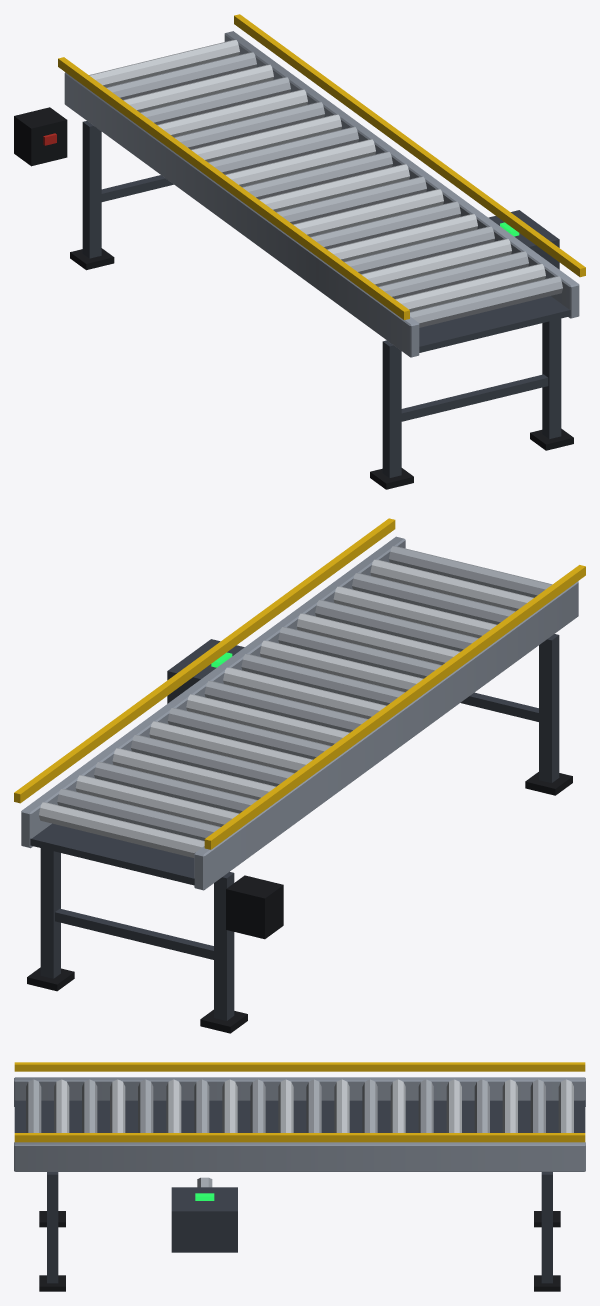
File: loader_conveyor_segment_3m.glb
3 views of the same model, one above another, from view 1: azimuth 30°, elevation 25°; view 2: azimuth 150°, elevation 25°; view 3: azimuth 270°, elevation 25° (orthographic). The views are drawn at different scales.
Visible parts, largest first — view 1: loader_conveyor_segment_3m; view 2: loader_conveyor_segment_3m; view 3: loader_conveyor_segment_3m.
Part boxes in pixels (bbox=[...]): loader_conveyor_segment_3m: bbox=[14, 14, 585, 489]; loader_conveyor_segment_3m: bbox=[14, 518, 585, 1033]; loader_conveyor_segment_3m: bbox=[14, 1062, 585, 1291].
Bounding box in the file's own units: 1.49 × 0.903 × 3.01.
